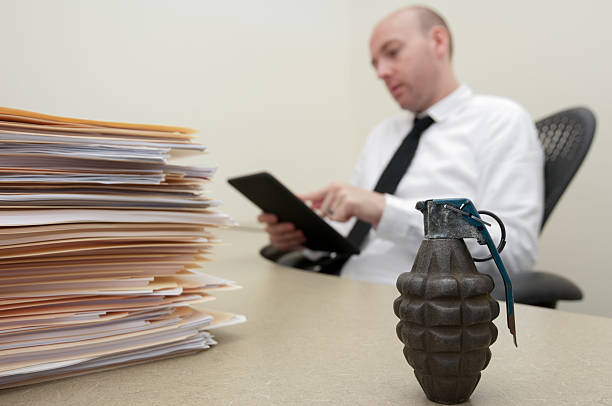e1: (396, 197, 522, 406)
